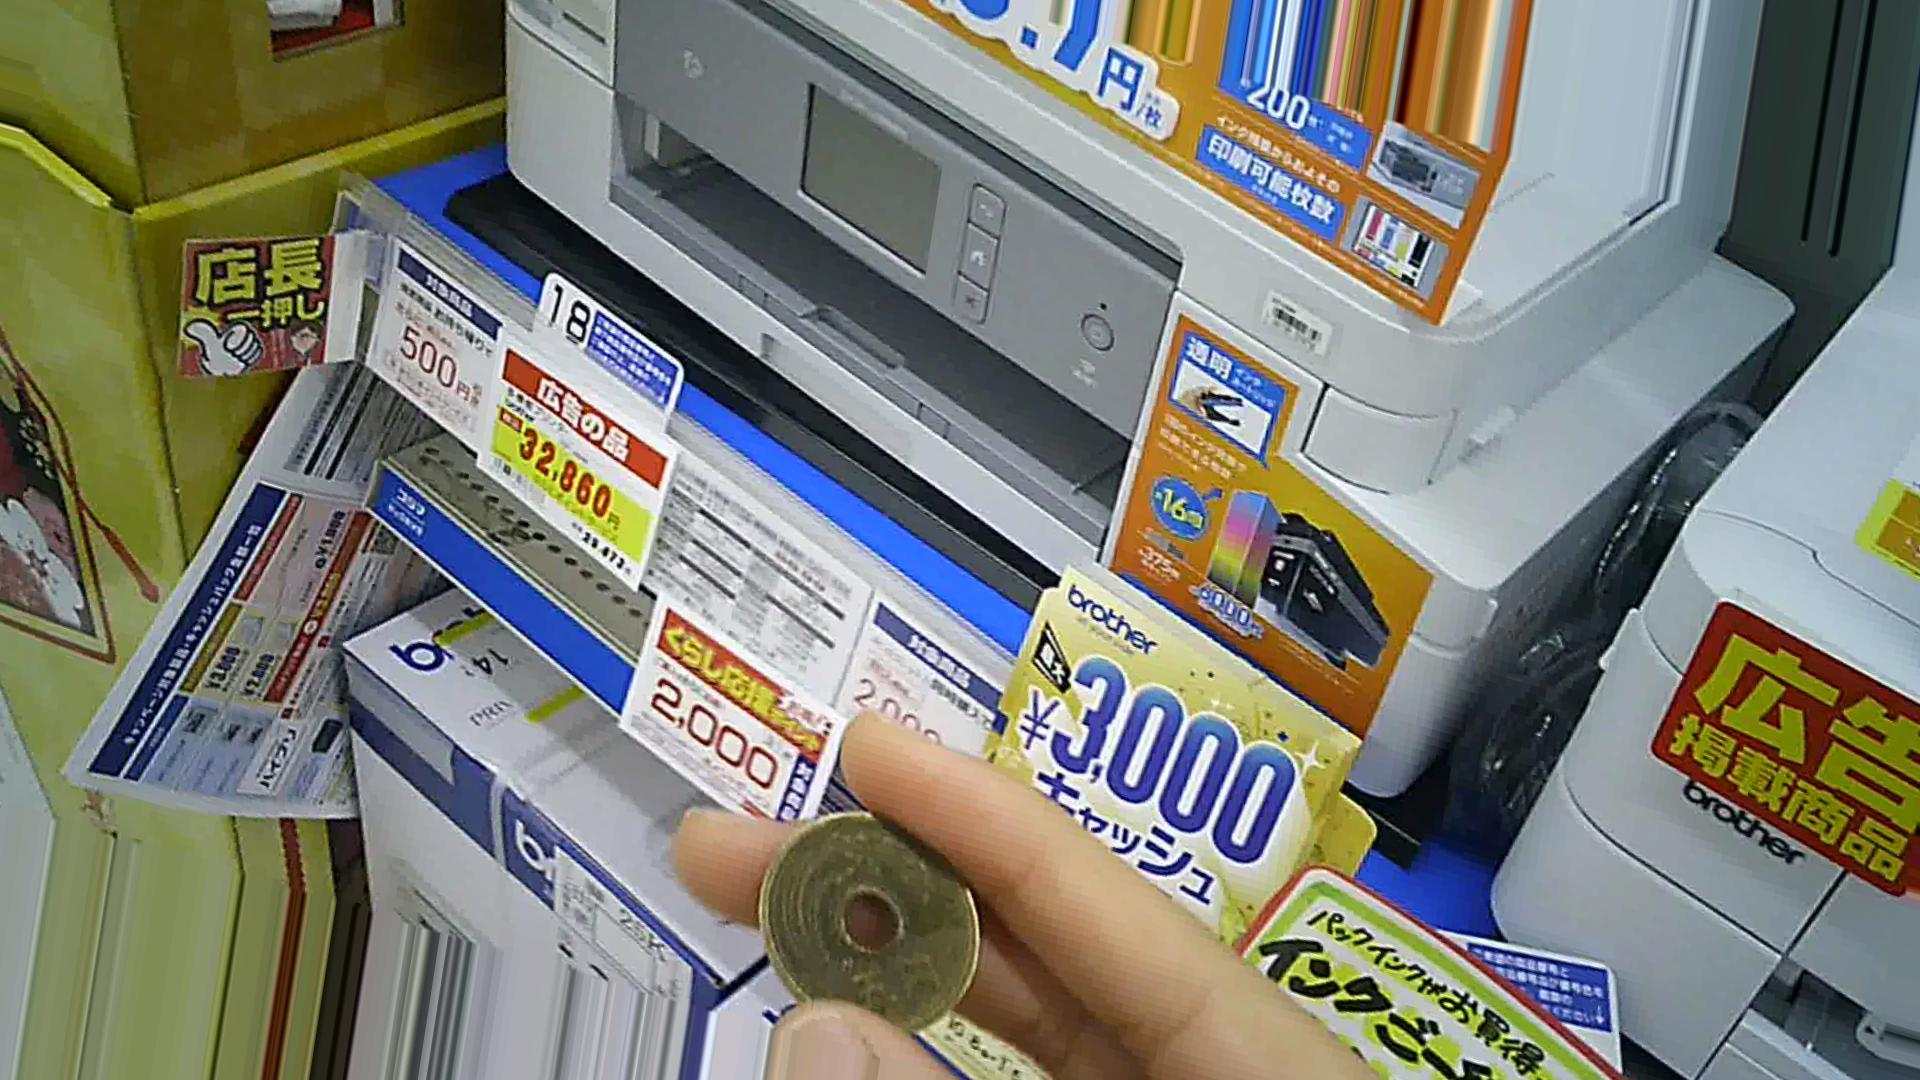5 Yen: (760, 796, 978, 1029)
